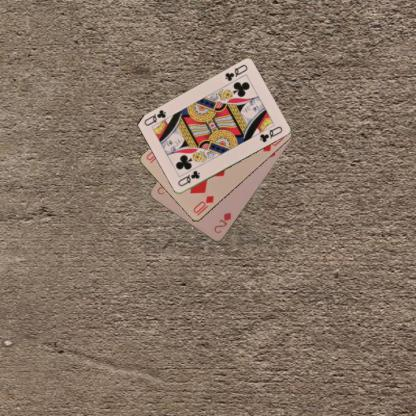10d: (190, 193, 216, 217)
2d: (212, 210, 234, 235)
Qc: (222, 62, 249, 82), (175, 168, 201, 188)
